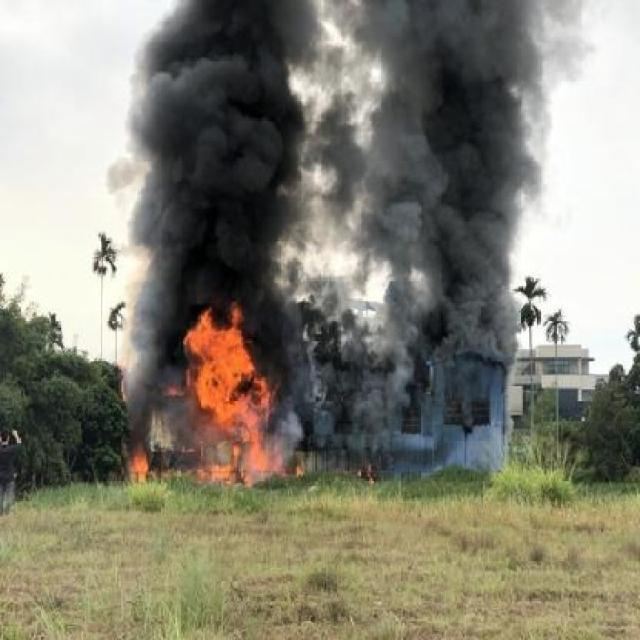Fire: (124, 303, 330, 487)
Smoke: (110, 0, 582, 300)
